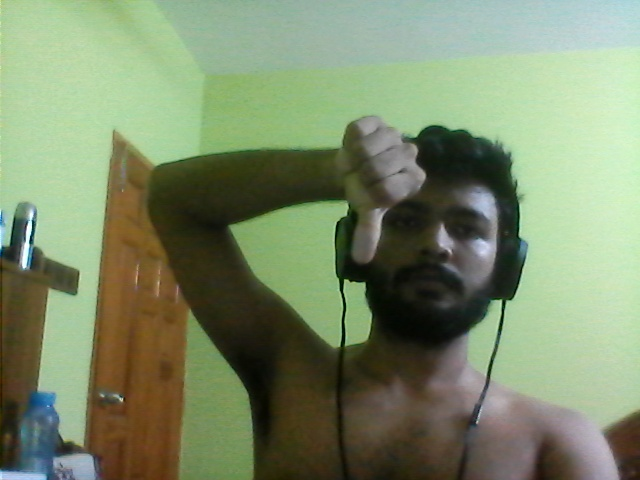No: (318, 111, 429, 278)
